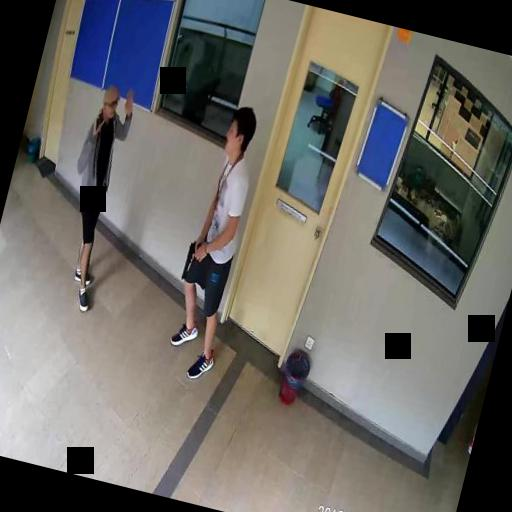Handgun: (180, 236, 204, 280)
